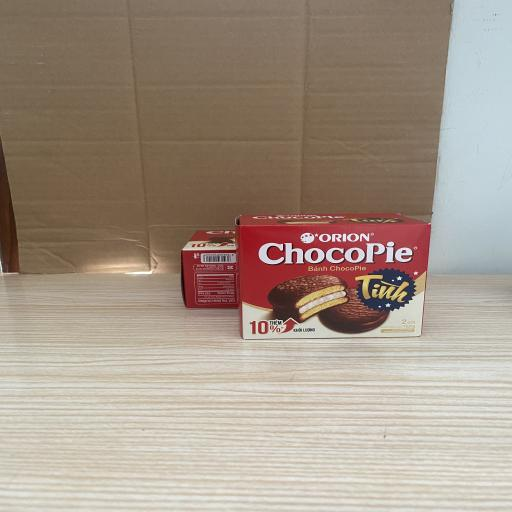chocopie: (235, 213, 431, 339), (182, 229, 354, 308)
